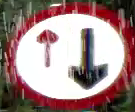Two way: (5, 4, 134, 108)
